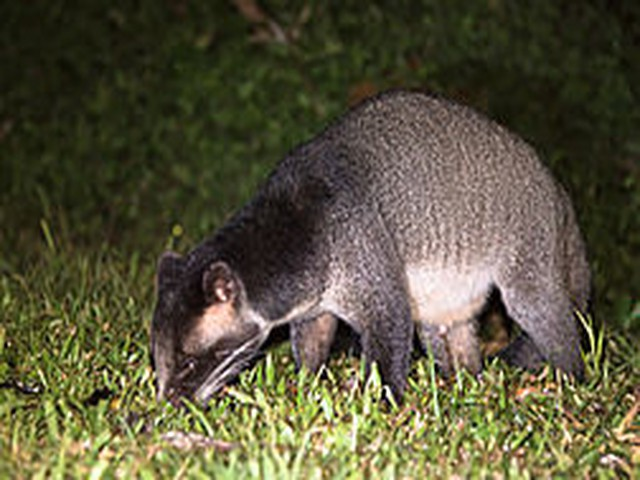civet: (147, 88, 601, 416)
